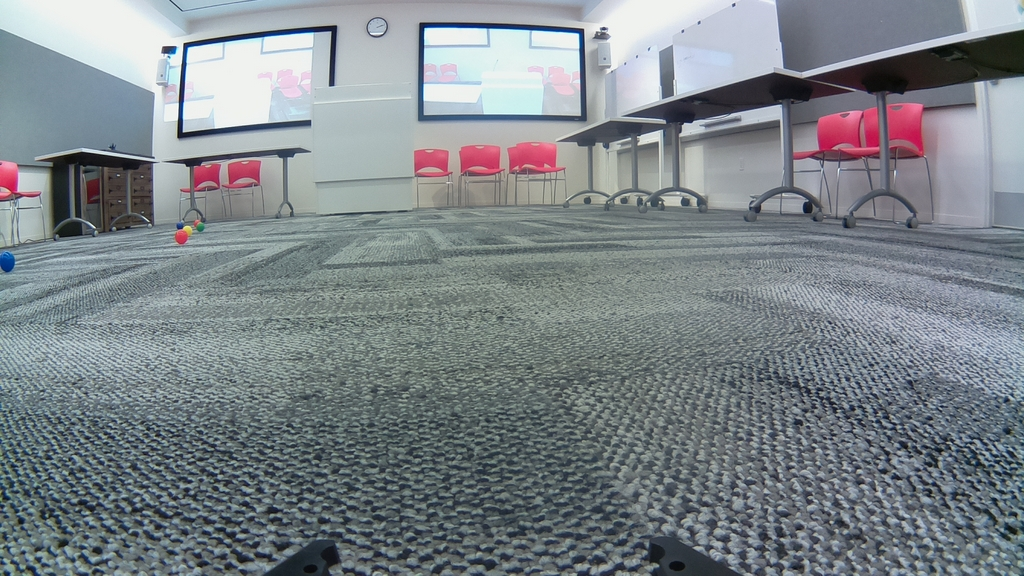ball: (184, 224, 192, 236)
